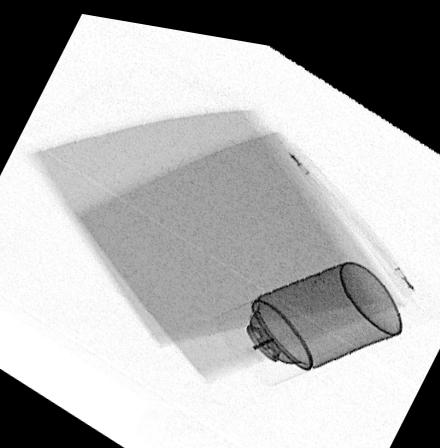Sprayer: (213, 247, 405, 379)
